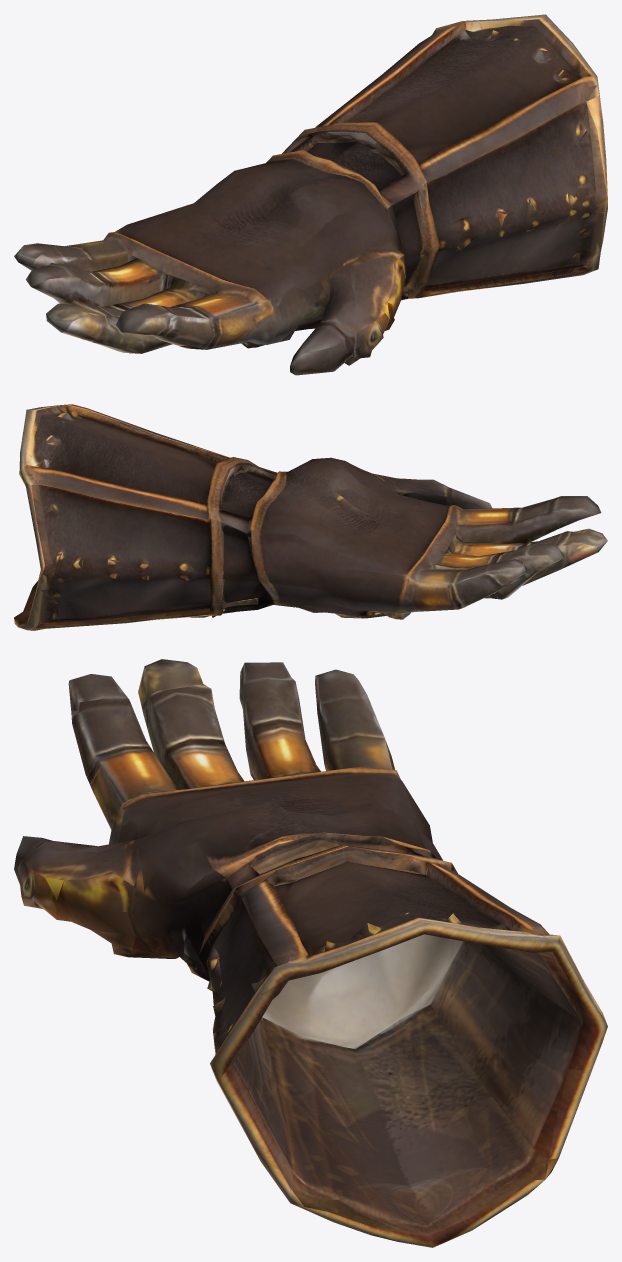
File: prefab_lightning_launcher.obj
3 views of the same model, one above another, from view 1: azimuth 30°, elevation 25°; view 2: azimuth 150°, elevation 25°; view 3: azimuth 270°, elevation 25° (orthographic). The views are drawn at different scales.
Parts seen in each view (by area): view 1: lightning_launcher; view 2: lightning_launcher; view 3: lightning_launcher.
Part boxes in pixels (<box>): lightning_launcher: <box>14,14,607,375</box>; lightning_launcher: <box>14,404,607,630</box>; lightning_launcher: <box>14,659,607,1247</box>.
Bounding box in the file's own units: 1.94 × 0.7623 × 1.27.
